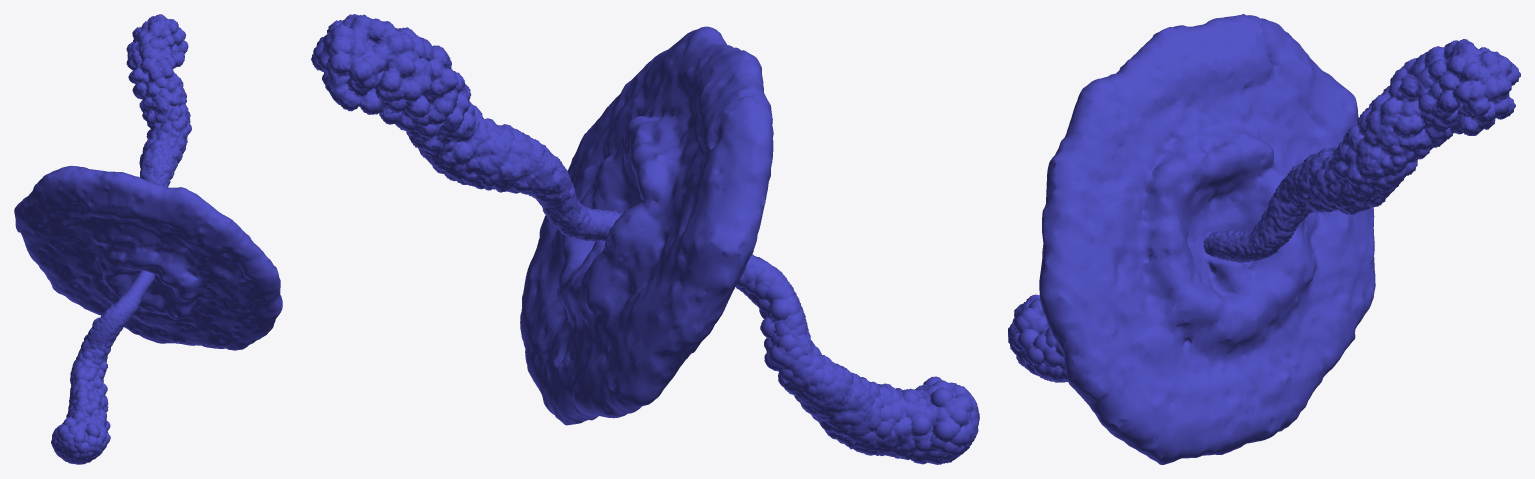
File: crab.glb
3 views of the same model, side by side, from view 1: azimuth 30°, elevation 25°; view 2: azimuth 150°, elevation 25°; view 3: azimuth 270°, elevation 25° (orthographic). The views are drawn at different scales.
Visible parts, largest first — view 1: CrabNebulaXrayModel_OBJexport; view 2: CrabNebulaXrayModel_OBJexport; view 3: CrabNebulaXrayModel_OBJexport.
Part boxes in pixels (<box>): CrabNebulaXrayModel_OBJexport: <box>14,14,282,464</box>; CrabNebulaXrayModel_OBJexport: <box>311,14,979,464</box>; CrabNebulaXrayModel_OBJexport: <box>1008,14,1520,464</box>.
Bounding box in the file's own units: 171 × 190 × 178.
